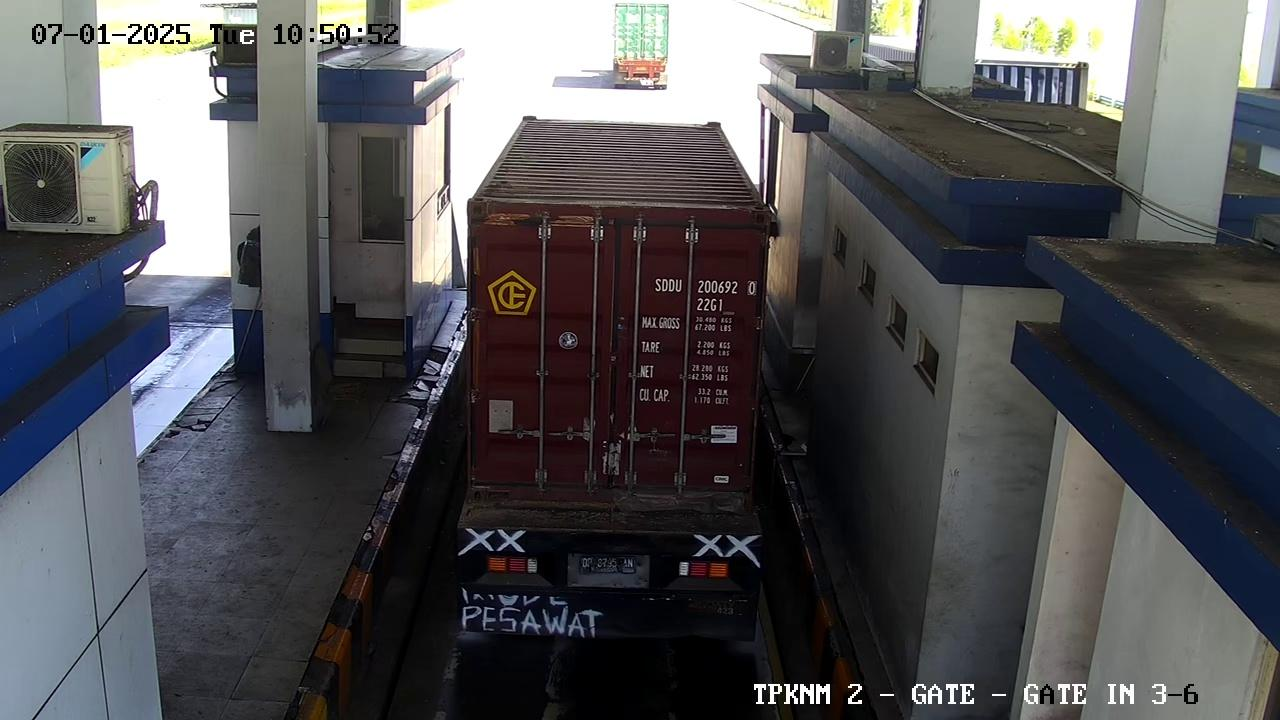Container_ID: (634, 266, 769, 298)
plate_number: (569, 543, 644, 585)
